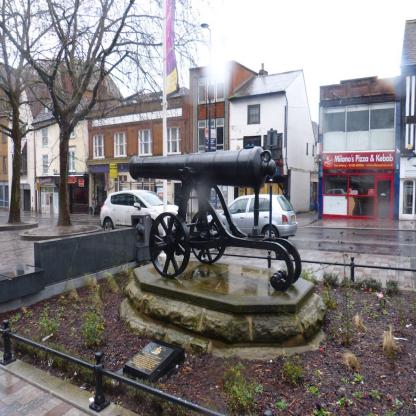Car: (207, 193, 298, 238), (100, 190, 189, 236)
